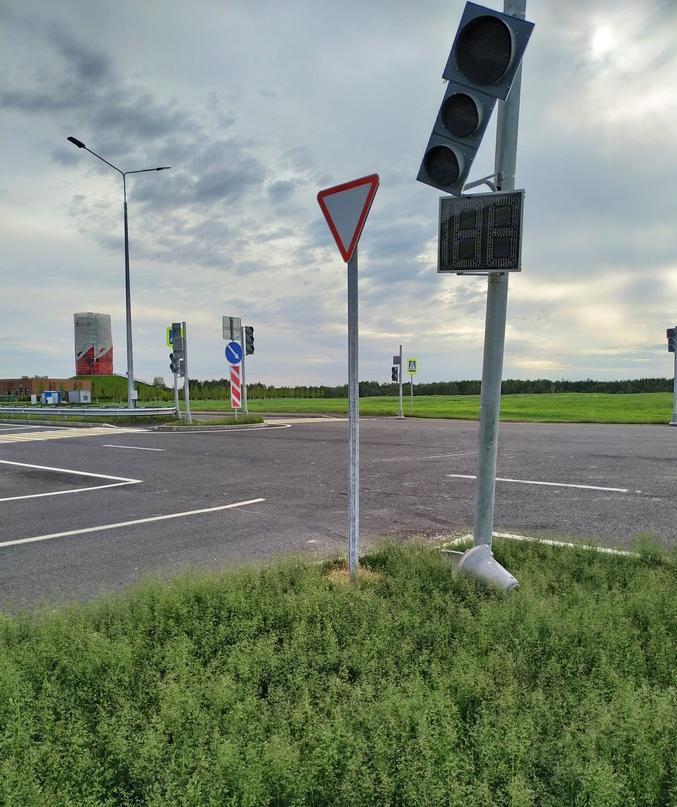off traffic light: (418, 2, 534, 195), (437, 189, 526, 271), (245, 326, 255, 355), (667, 327, 676, 352), (169, 353, 179, 373), (391, 367, 398, 381)
road_sign: (318, 173, 378, 262), (229, 365, 241, 408), (225, 342, 243, 366), (406, 357, 418, 374)
